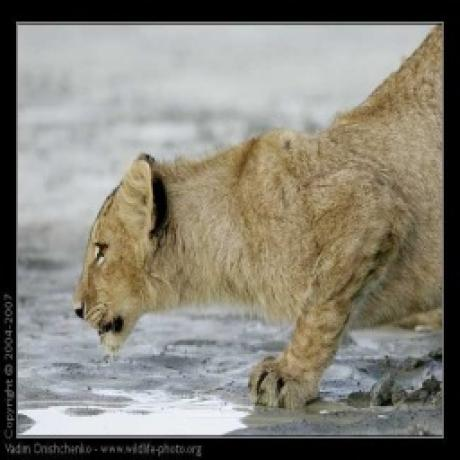Lion: (62, 26, 446, 414)
